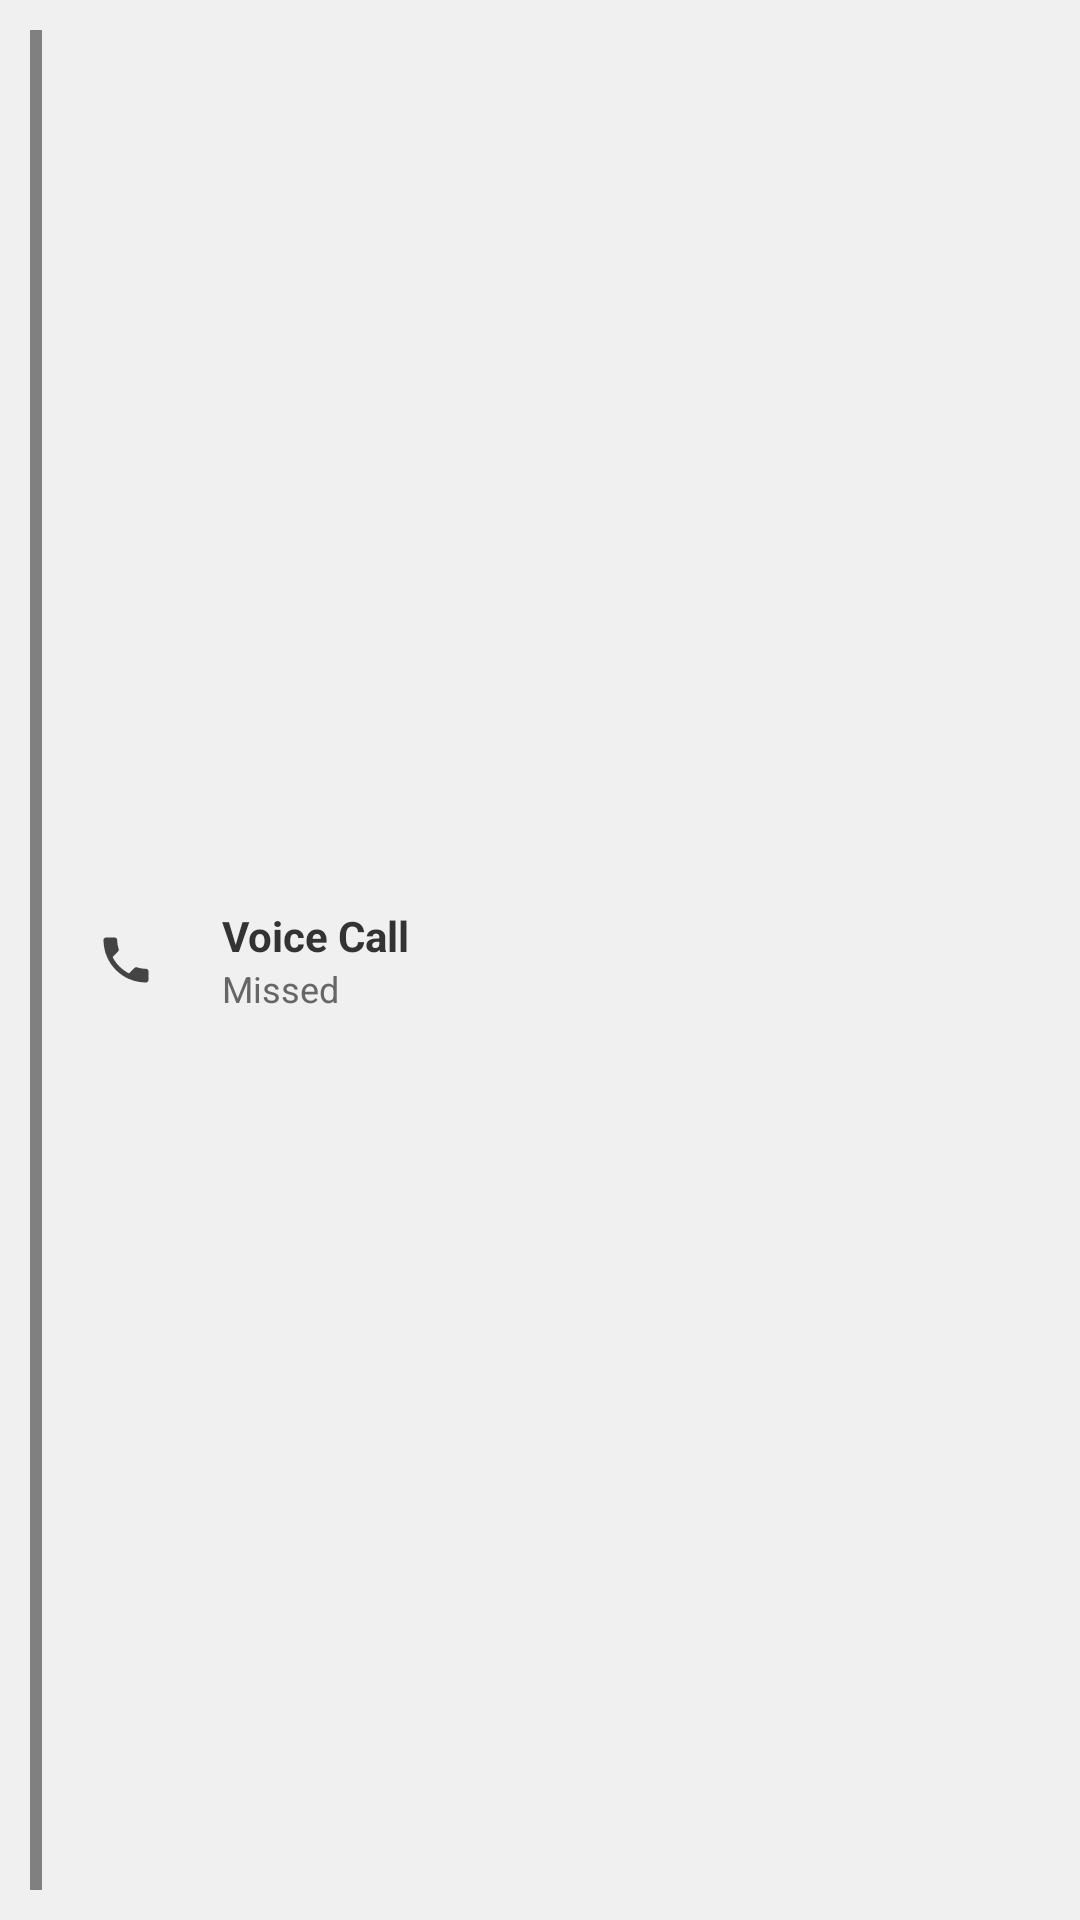

Where icons sit on this 1080x1920 app screen, as (x1, y1, x2, y2):
Call Type: (103, 937, 149, 983)
